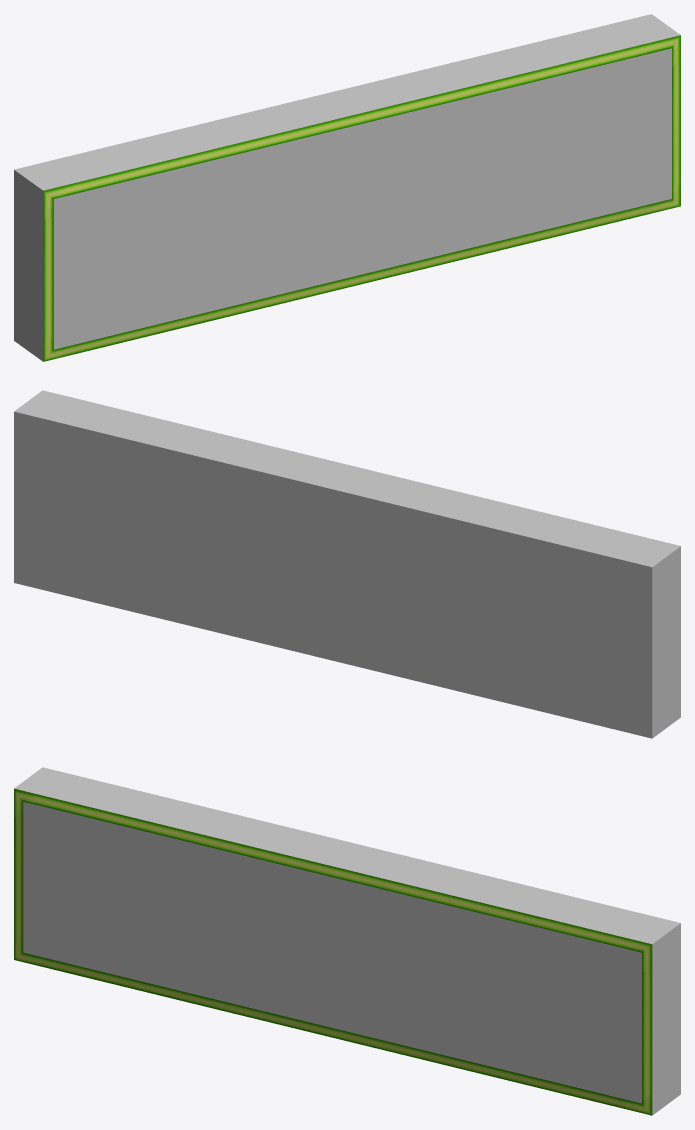
Rendered from sign_15j.fbx.
3 views of the same model, one above another, from view 1: azimuth 30°, elevation 25°; view 2: azimuth 150°, elevation 25°; view 3: azimuth 330°, elevation 25° (orthographic).
Visible parts, largest first — view 1: sign_15j; view 2: sign_15j; view 3: sign_15j.
Part boxes in pixels (bbox=[...]): sign_15j: bbox=[14, 14, 680, 361]; sign_15j: bbox=[14, 390, 680, 738]; sign_15j: bbox=[14, 767, 680, 1115].
Bounding box in the file's own units: 3.55 × 0.9092 × 0.2851.
